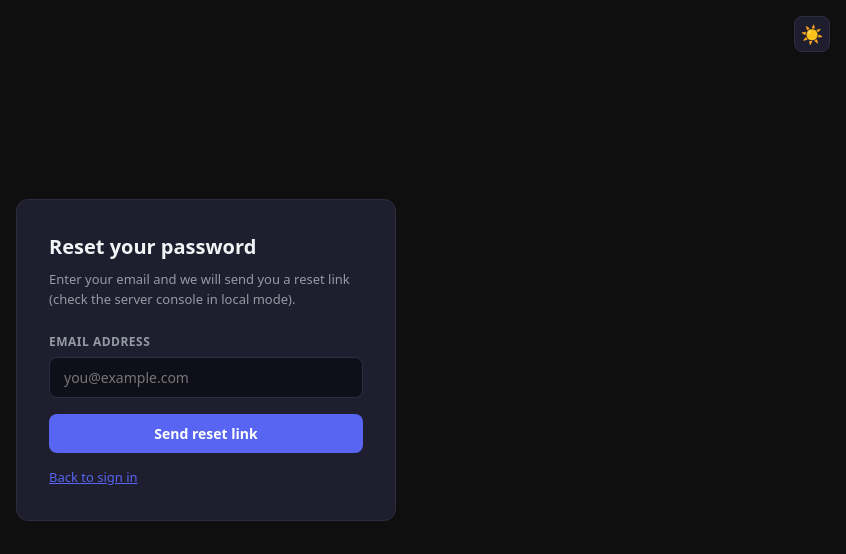
Test: shows default error message when API returns no error field
Type "x@y.com" into the field with test id "fp-email".
click(206, 378); type("x@y.com")  # box [49,357,363,398]
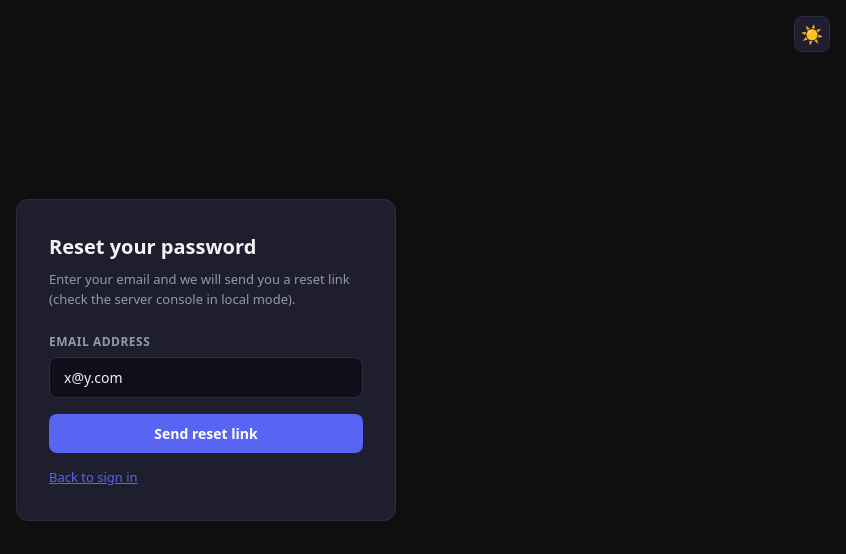
Click the button with test id "fp-submit".
click(206, 434)  # box [49,414,363,453]
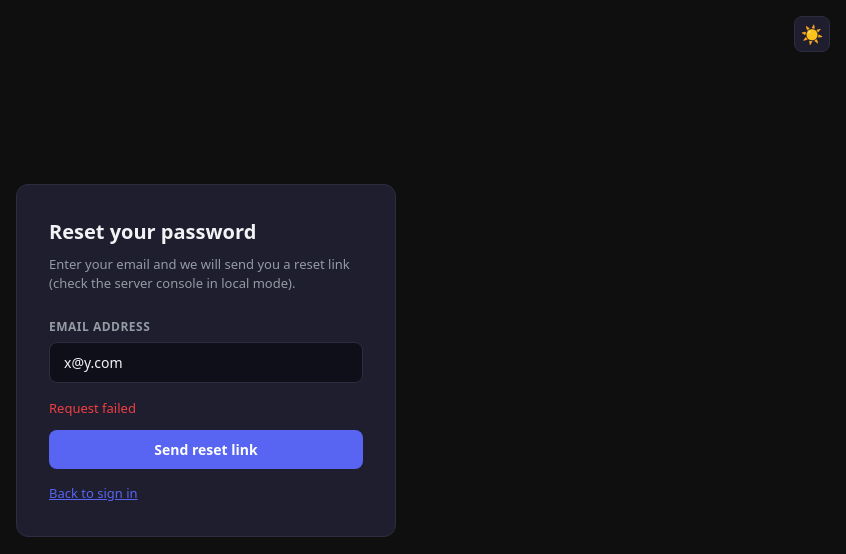
Expected: the text with test id "fp-error" reads "Request failed", [49,398,136,416]
